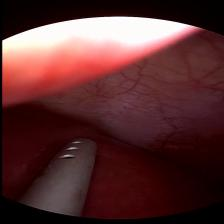Irrigator: (36, 135, 104, 185)
